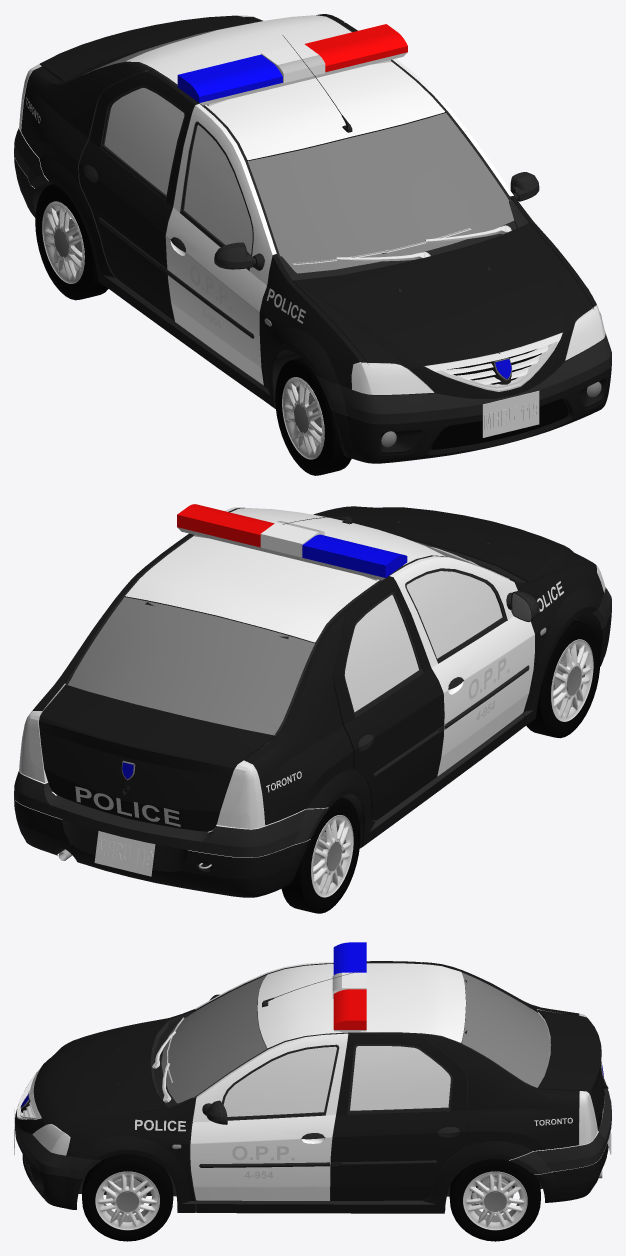
3 views of the same model, one above another, from view 1: azimuth 30°, elevation 25°; view 2: azimuth 150°, elevation 25°; view 3: azimuth 270°, elevation 25° (orthographic). The views are drawn at different scales.
Parts seen in each view (by area): view 1: Group_015, 3D_Object_#5_001, 3D_Object_#13_001, 3D_Object_#20_001, 3D_Object_#15_003, 3D_Object_#11_003, Group_001, 3D_Object_#19_001, Group_004, Group_005, 3D_Object_#3_001, 3D_Object__001 (+10 smaller); view 2: Group_015, 3D_Object_#5_001, 3D_Object_#3_001, 3D_Object_#19_001, 3D_Object_#15_003, 3D_Object_#11_003, 3D_Object_#13_001, Group_001, Group_004, Group_005, 3D_Object__003, 3D_Object__001 (+9 smaller); view 3: Group_015, 3D_Object_#15_001, 3D_Object_#11_001, 3D_Object_#5_001, 3D_Object_#13_001, 3D_Object_#19_001, Group_002, Group_003, 3D_Object_#3_001, 3D_Object__005, 3D_Object__007, 3D_Object_#20_001 (+7 smaller).
Part boxes in pixels (x1,y1,x2,y2): Group_015: (21, 14, 601, 408); 3D_Object_#5_001: (84, 25, 514, 273); 3D_Object_#13_001: (293, 223, 592, 368); 3D_Object_#20_001: (316, 333, 611, 463); 3D_Object_#15_003: (165, 104, 276, 385); 3D_Object_#11_003: (79, 70, 199, 321); Group_001: (177, 24, 407, 106); 3D_Object_#19_001: (14, 128, 573, 400); Group_004: (104, 88, 184, 194); Group_005: (184, 124, 252, 254); 3D_Object_#3_001: (40, 15, 254, 81); 3D_Object__001: (275, 357, 351, 475); Group_015: (32, 506, 603, 848); 3D_Object_#5_001: (67, 540, 478, 735); 3D_Object_#3_001: (39, 684, 274, 831); 3D_Object_#19_001: (14, 541, 599, 897); 3D_Object_#15_003: (389, 556, 539, 776); 3D_Object_#11_003: (333, 576, 444, 820); 3D_Object_#13_001: (318, 507, 592, 582); Group_001: (177, 504, 407, 580); Group_004: (344, 595, 418, 712); Group_005: (406, 571, 502, 658); 3D_Object__003: (281, 797, 360, 913); 3D_Object__001: (526, 620, 600, 738); Group_015: (62, 962, 579, 1213); 3D_Object_#15_001: (190, 1033, 348, 1200); 3D_Object_#11_001: (330, 1033, 467, 1200); 3D_Object_#5_001: (161, 972, 549, 1103); 3D_Object_#13_001: (33, 1019, 168, 1130); 3D_Object_#19_001: (15, 1011, 611, 1211); Group_002: (350, 1046, 450, 1110); Group_003: (223, 1046, 336, 1116); 3D_Object_#3_001: (537, 1010, 608, 1129); 3D_Object__005: (82, 1154, 173, 1241); 3D_Object__007: (449, 1159, 540, 1241); 3D_Object_#20_001: (15, 1113, 102, 1209).
Size of the model in its own units: 1926 by 1669 by 4056.
